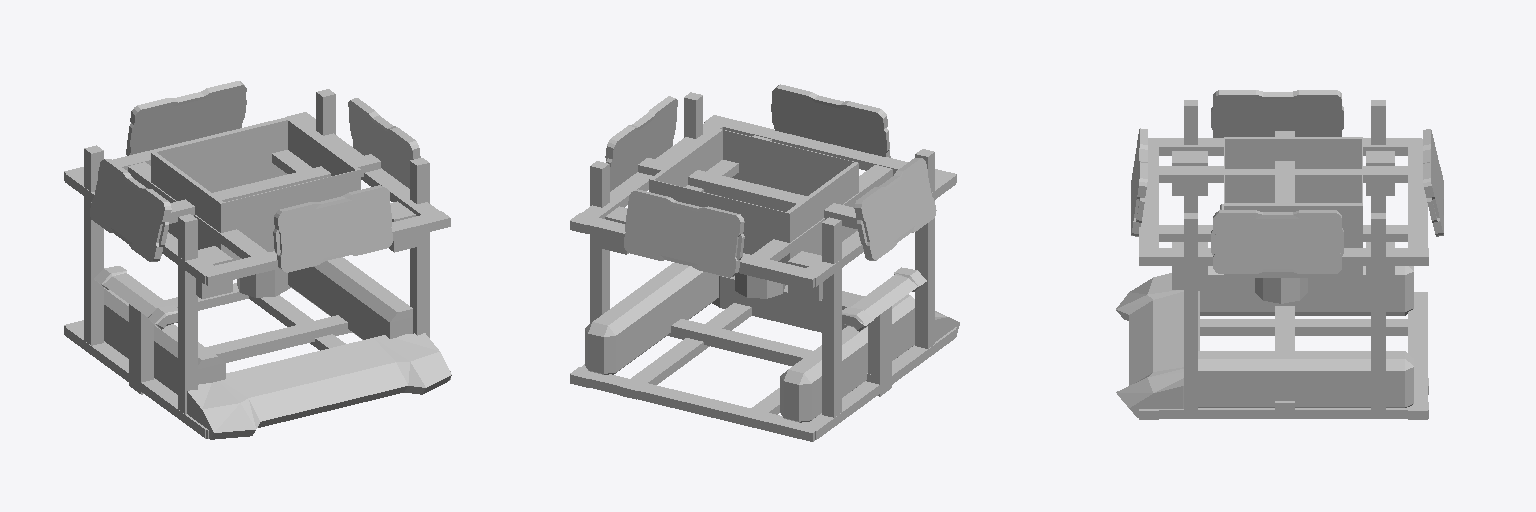
The model's file is Hero_Body.obj.
3 views of the same model, side by side, from view 1: azimuth 30°, elevation 25°; view 2: azimuth 150°, elevation 25°; view 3: azimuth 270°, elevation 25° (orthographic).
Parts seen in each view (by area): view 1: pCube67; view 2: pCube67; view 3: pCube67.
Boxes of the visible parts, box(x1,y1,x2,y2) form: pCube67: box(64, 81, 451, 439); pCube67: box(570, 84, 959, 441); pCube67: box(1116, 90, 1443, 419).
Size of the model in its own units: 8.72 by 6.49 by 9.09.